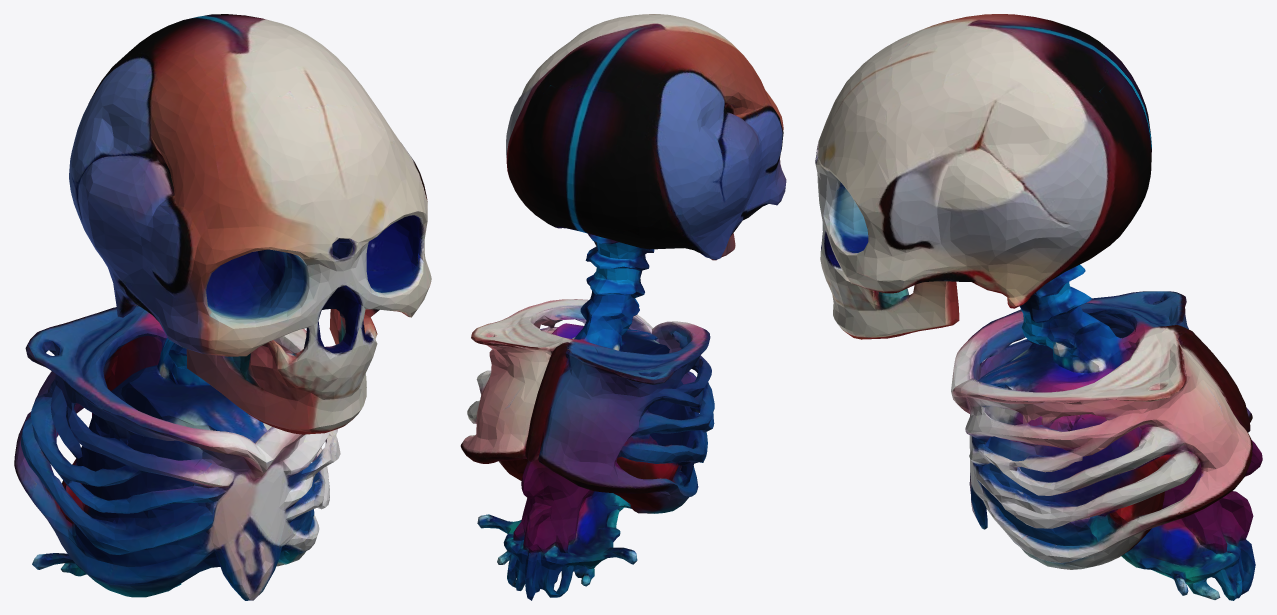
The model's file is skeleton_minion.glb.
The picture shows the model from 3 angles, left to right: view 1: azimuth 30°, elevation 25°; view 2: azimuth 150°, elevation 25°; view 3: azimuth 270°, elevation 25°; orthographic projection. The views are drawn at different scales.
Parts seen in each view (by area): view 1: geometry_0; view 2: geometry_0; view 3: geometry_0.
Boxes of the visible parts, x1,y1,x2,y2 form: geometry_0: [14, 14, 431, 600]; geometry_0: [460, 14, 786, 600]; geometry_0: [815, 14, 1262, 600].
Size of the model in its own units: 0.4877 by 1 by 0.7154.
1 material, 1 textured.
